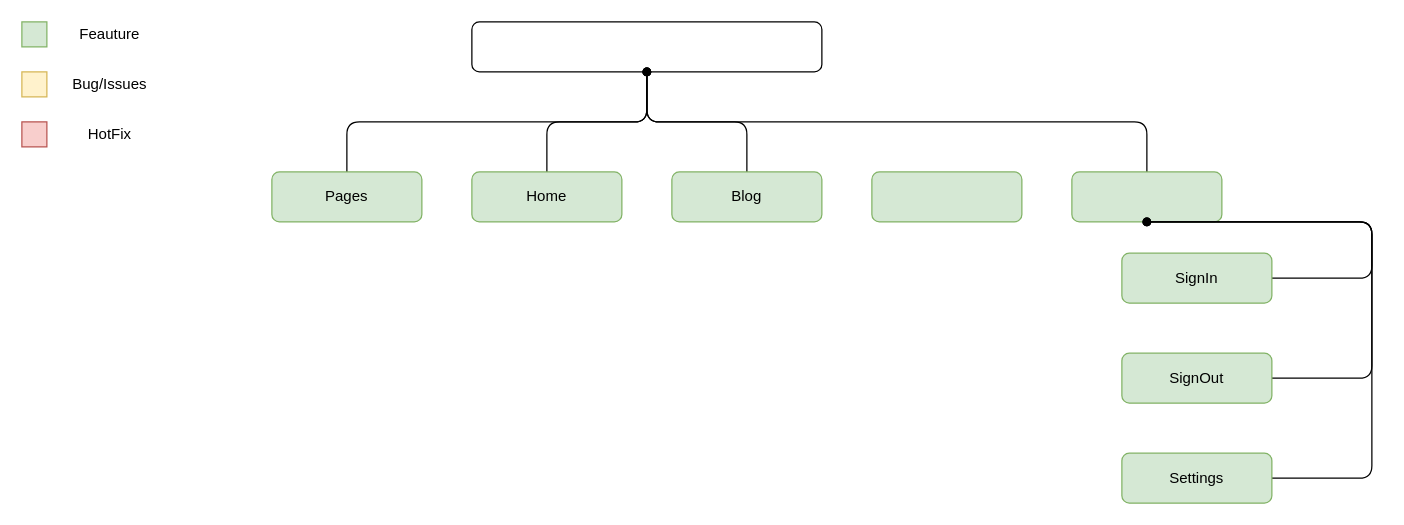
Image size: 1404x525. Some labels were removed from this diagram. Each missing label, with the centre of its shape:
"Account" goes at [1146,196].
"SL Django ToGO Template" goes at [646,46].
"Users" goes at [946,196].
